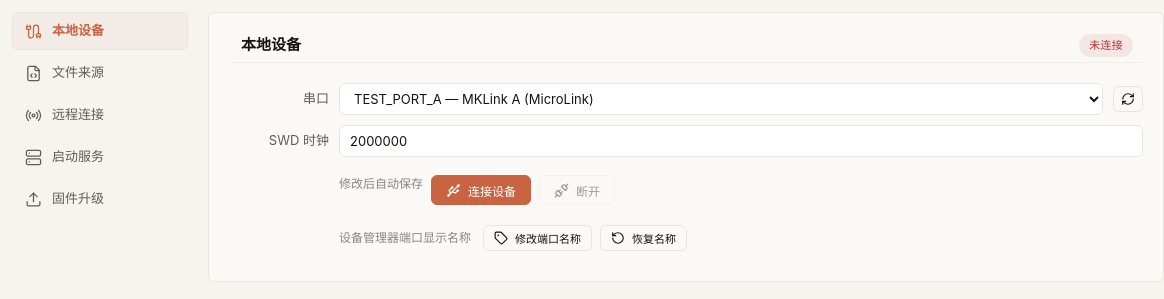
ConfigView › distinguishes readable variables from DWARF type definitions
Step 1. Click the button with test id "config-section-files" → x=100, y=73, box left=12, top=54, right=188, bottom=92
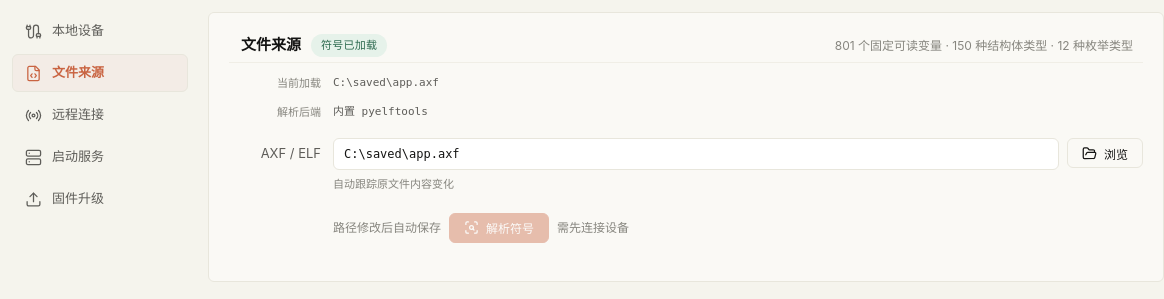
expect the text "801 个固定可读变量" is shown: met, box left=835, top=38, right=1133, bottom=52
expect the text "150 种结构体类型" is shown: met, box left=835, top=38, right=1133, bottom=52
expect the text "12 种枚举类型" is shown: met, box left=835, top=38, right=1133, bottom=52
